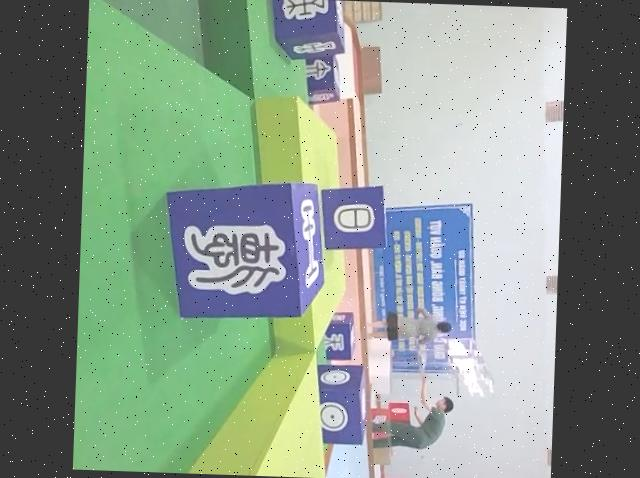R2 Fake Blue: (161, 179, 326, 322), (317, 183, 389, 252), (304, 51, 342, 105)
R2 Real Blue: (265, 0, 346, 59), (313, 361, 368, 445), (322, 310, 357, 360)
